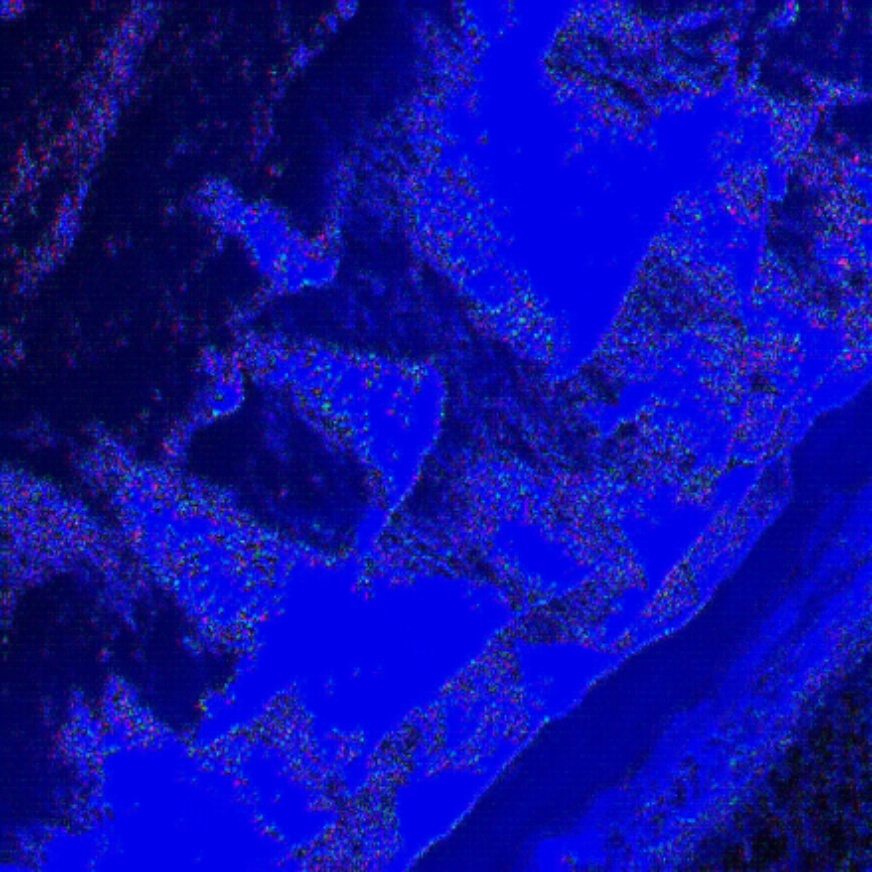rip_current: (336, 221, 670, 578)
